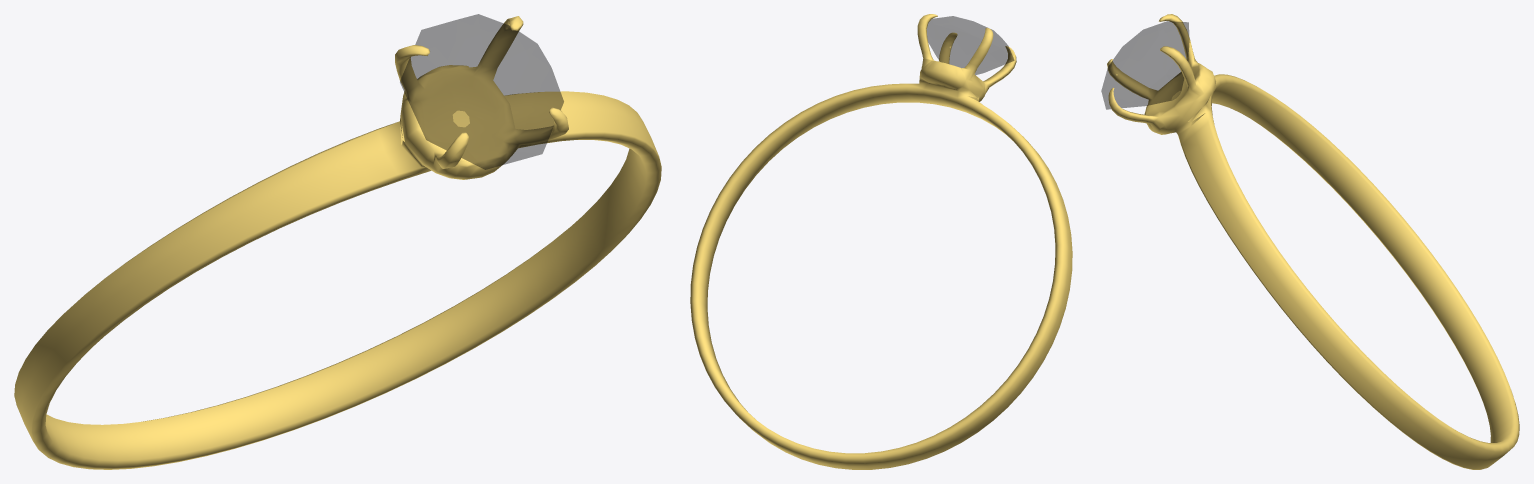
The picture shows the model from 3 angles, left to right: view 1: azimuth 30°, elevation 25°; view 2: azimuth 150°, elevation 25°; view 3: azimuth 270°, elevation 25°; orthographic projection. The views are drawn at different scales.
Visible parts, largest first — view 1: Cylinder, Gem; view 2: Cylinder, Gem; view 3: Cylinder, Gem.
Part boxes in pixels (x1,y1,x2,y2): Cylinder: (14,16,661,469); Gem: (400,14,563,169); Cylinder: (690,14,1072,469); Gem: (927,16,1014,74); Cylinder: (1107,14,1519,469); Gem: (1101,21,1189,109).
Bounding box in the file's own units: 0.538 × 0.515 × 0.4702.
